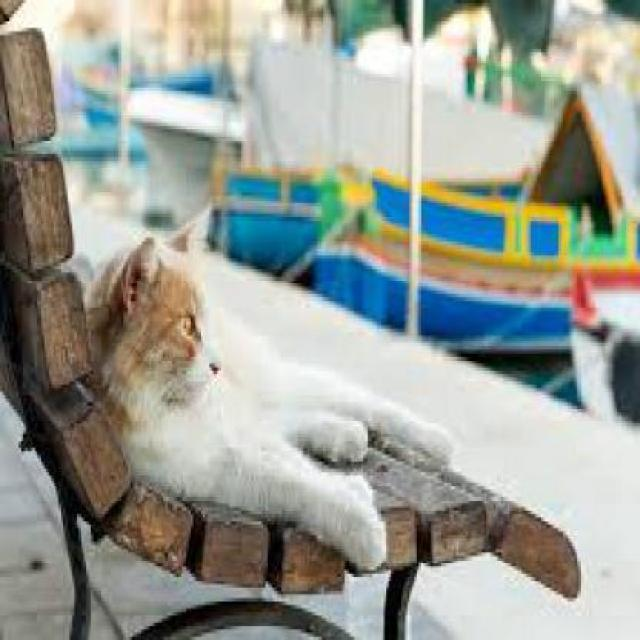cat: (89, 196, 456, 578)
